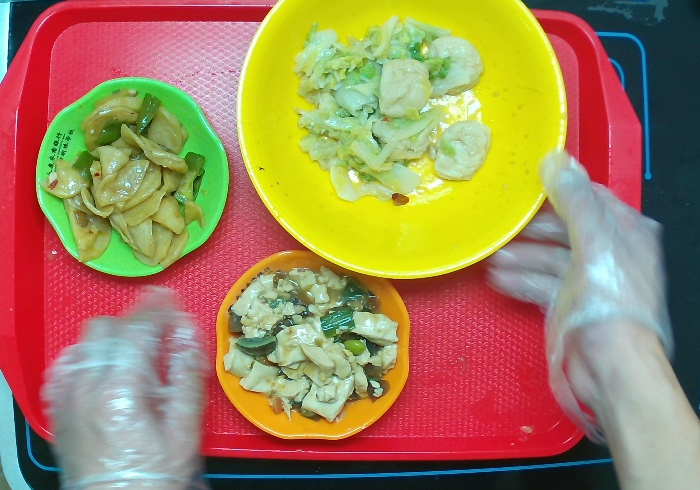YKMZ-Huang_Se_Tang_Wan: (233, 1, 574, 287)
YKMZ-Ju_Se_Ao_Bian_Wan: (211, 247, 422, 444)
YKMZ-Lv_Se_Ao_Bian_Wan: (31, 72, 236, 282)
